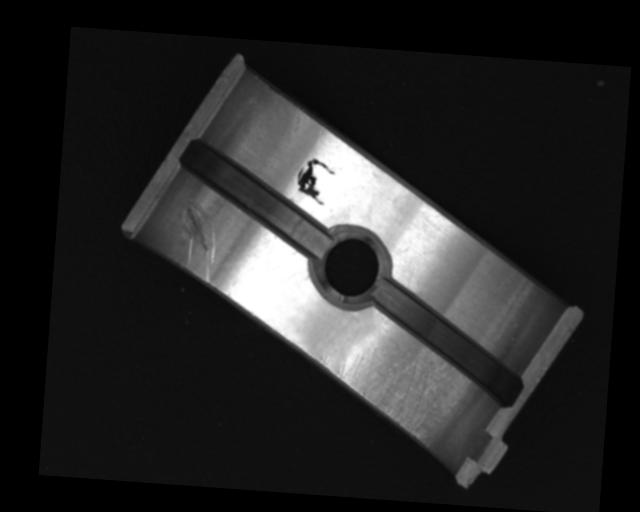blot: (293, 156, 336, 212)
gap: (365, 278, 529, 408), (173, 139, 337, 258)
hole: (307, 223, 394, 310)
nick: (172, 196, 218, 286)
scratch: (313, 339, 476, 450)
